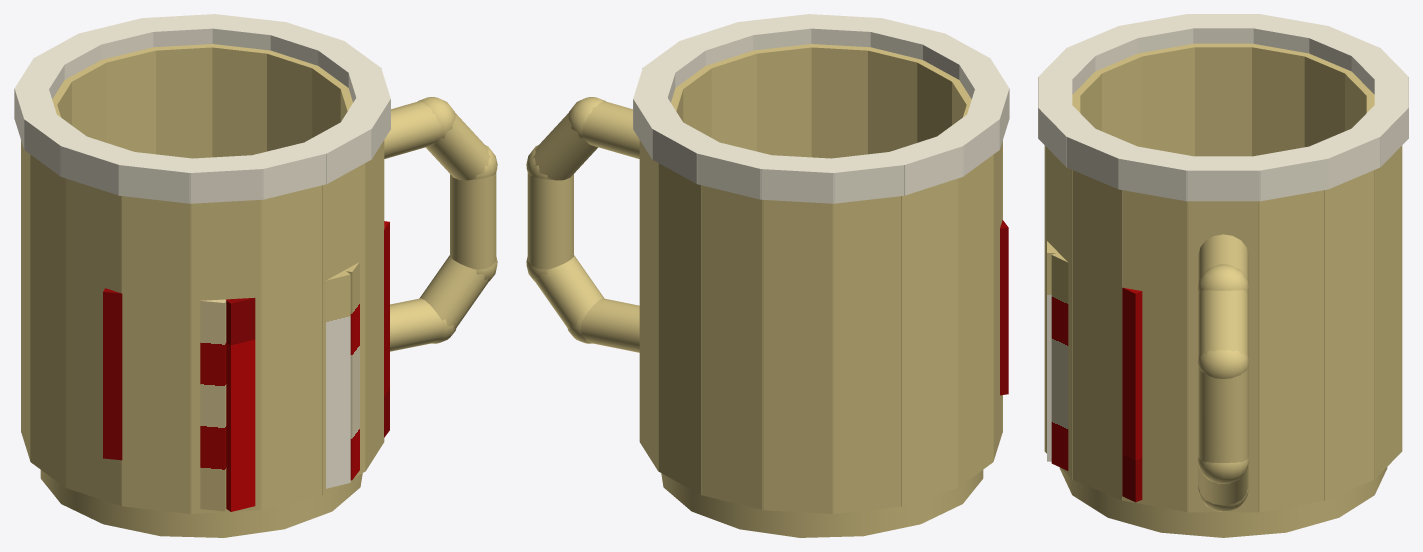
The model's file is CMU3DDrinkMugOneDrinksExtraCloud.glb.
3 renders of one model, left to right at view 1: azimuth 30°, elevation 25°; view 2: azimuth 150°, elevation 25°; view 3: azimuth 270°, elevation 25°, orthographic.
Parts seen in each view (by area): view 1: ceramic cup wall 10, ceramic cup wall 12, ceramic cup wall 09, source front label tangent 1, ceramic cup wall 08, ceramic cup wall 11, source front label tangent 0, thick ceramic base, ceramic cup wall 03, ceramic cup wall 13, ceramic cup wall 02, ceramic cup wall 14 (+29 smaller); view 2: ceramic cup wall 05, ceramic cup wall 06, ceramic cup wall 04, ceramic cup wall 07, ceramic cup wall 03, ceramic cup wall 08, thick ceramic base, ceramic cup wall 13, ceramic cup wall 02, ceramic cup wall 14, ceramic cup wall 12, ceramic cup wall 15 (+27 smaller); view 3: ceramic cup wall 01, ceramic cup wall 15, ceramic cup wall 02, ceramic cup wall 14, ceramic cup wall 00, ceramic cup wall 03, source front label tangent 2, thick ceramic base, ceramic cup wall 08, ceramic cup wall 07, ceramic cup wall 09, ceramic cup wall 13 (+30 smaller).
Part boxes in pixels (bbox=[...]): ceramic cup wall 10: bbox=[121, 196, 191, 513]; ceramic cup wall 12: bbox=[260, 185, 322, 509]; ceramic cup wall 09: bbox=[65, 178, 122, 506]; source front label tangent 1: bbox=[225, 270, 350, 511]; ceramic cup wall 08: bbox=[30, 154, 66, 487]; ceramic cup wall 11: bbox=[190, 200, 261, 513]; source front label tangent 0: bbox=[103, 288, 226, 511]; thick ceramic base: bbox=[40, 470, 362, 537]; ceramic cup wall 03: bbox=[148, 44, 219, 158]; ceramic cup wall 13: bbox=[322, 163, 365, 495]; ceramic cup wall 02: bbox=[207, 44, 266, 157]; ceramic cup wall 14: bbox=[365, 140, 384, 471]; ceramic cup wall 05: bbox=[762, 200, 833, 513]; ceramic cup wall 06: bbox=[832, 196, 902, 513]; ceramic cup wall 04: bbox=[701, 185, 763, 509]; ceramic cup wall 07: bbox=[901, 178, 958, 506]; ceramic cup wall 03: bbox=[658, 163, 701, 495]; ceramic cup wall 08: bbox=[957, 154, 993, 487]; thick ceramic base: bbox=[661, 470, 983, 537]; ceramic cup wall 13: bbox=[804, 44, 875, 158]; ceramic cup wall 02: bbox=[639, 140, 658, 471]; ceramic cup wall 14: bbox=[755, 44, 811, 157]; ceramic cup wall 12: bbox=[862, 47, 917, 154]; ceramic cup wall 15: bbox=[702, 50, 762, 151]; ceramic cup wall 01: bbox=[1258, 190, 1324, 512]; ceramic cup wall 15: bbox=[1122, 190, 1188, 512]; ceramic cup wall 02: bbox=[1324, 170, 1375, 500]; ceramic cup wall 14: bbox=[1071, 170, 1122, 500]; ceramic cup wall 00: bbox=[1187, 201, 1259, 512]; ceramic cup wall 03: bbox=[1374, 145, 1402, 479]; source front label tangent 2: bbox=[1051, 253, 1142, 502]; thick ceramic base: bbox=[1059, 467, 1387, 537]; ceramic cup wall 08: bbox=[1187, 43, 1259, 156]; ceramic cup wall 07: bbox=[1245, 43, 1313, 156]; ceramic cup wall 09: bbox=[1133, 43, 1201, 156]; ceramic cup wall 13: bbox=[1044, 145, 1072, 479].
Bounding box in the file's own units: 0.3541 × 0.2815 × 0.2513.
5 materials, 3 textured.
